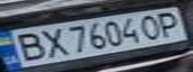0: (103, 18, 124, 47)
4: (118, 16, 145, 44)
6: (84, 19, 109, 51)
7: (63, 22, 90, 54)
B: (6, 29, 51, 62)
O: (136, 11, 169, 40)
P: (151, 10, 187, 38)
X: (33, 25, 72, 58)
